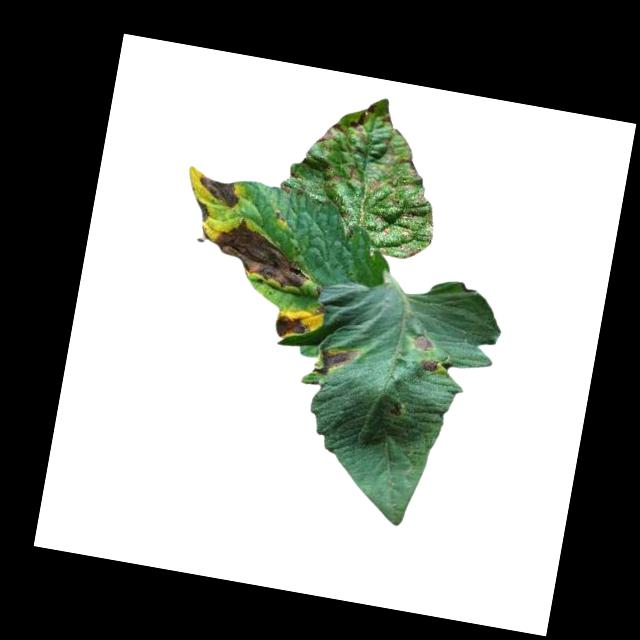Early_blight: (206, 214, 318, 294), (311, 341, 360, 383), (194, 174, 242, 210), (267, 310, 310, 343), (348, 102, 376, 147), (313, 120, 348, 151), (415, 357, 440, 378), (190, 198, 209, 224), (413, 333, 435, 354)
